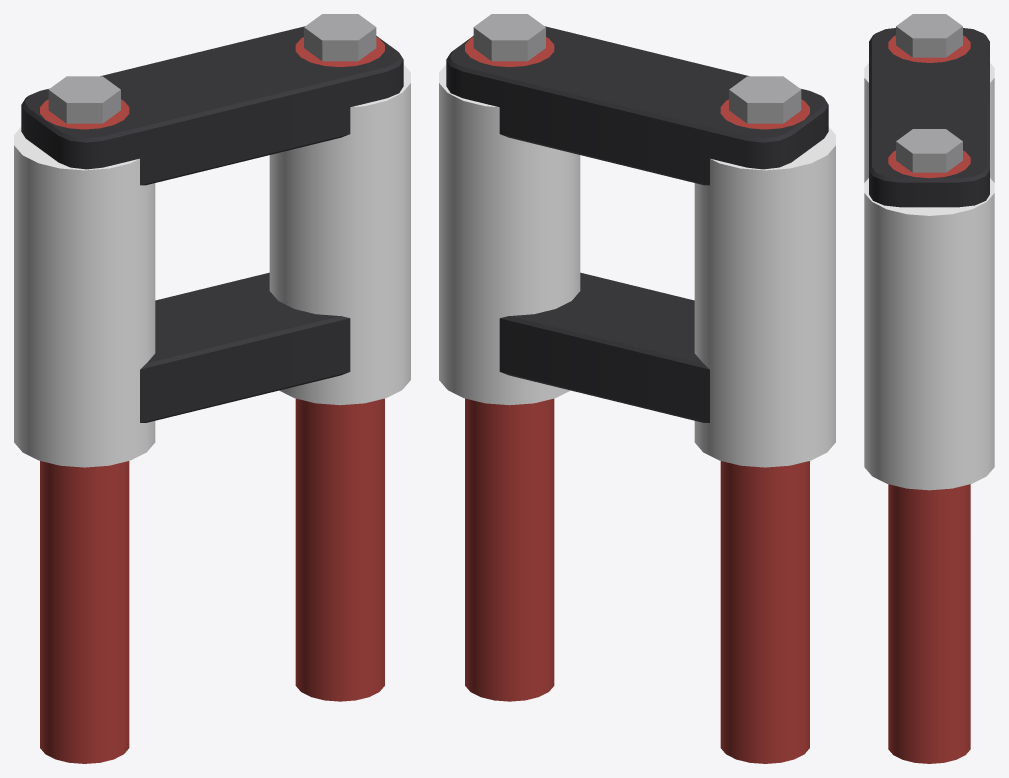
The model's file is tourer_fork_chrome_upper.glb.
3 renders of one model, left to right at view 1: azimuth 30°, elevation 25°; view 2: azimuth 150°, elevation 25°; view 3: azimuth 270°, elevation 25°, orthographic. The views are drawn at different scales.
Visible parts, largest first — view 1: lod0; view 2: lod0; view 3: lod0.
Boxes of the visible parts, x1,y1,x2,y2 form: lod0: (14,14,410,763); lod0: (439,14,835,763); lod0: (864,14,994,763).
Size of what is drawn, in the model's own units: 0.2674 by 0.441 by 0.0861.
